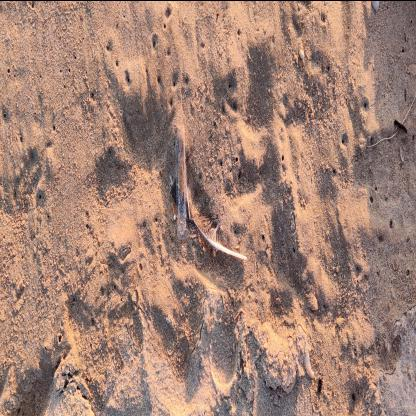plastik: (174, 124, 188, 238)
